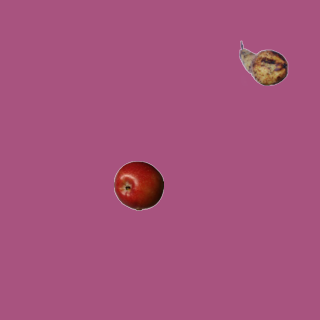Apple Braeburn: (113, 160, 163, 210)
Pear Abate: (238, 38, 288, 88)
